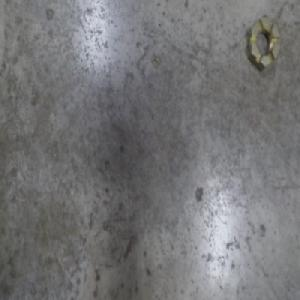Nut: (245, 14, 281, 75)
